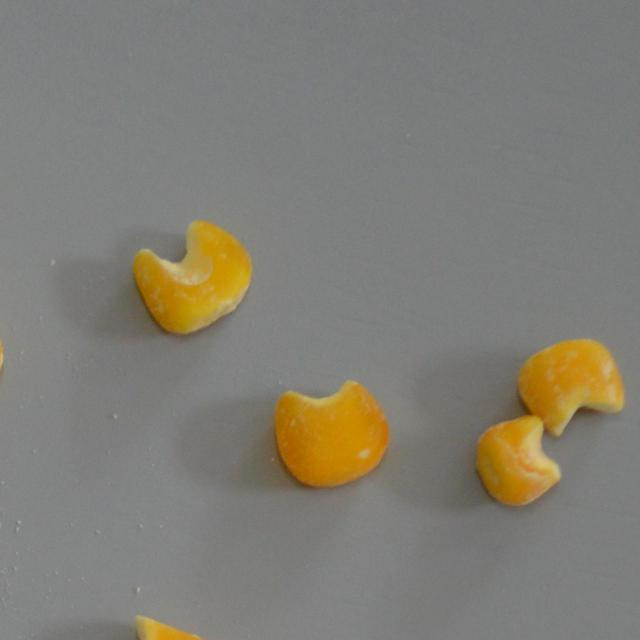no_canjicado: (272, 378, 390, 488), (112, 614, 246, 640)
pelicula: (132, 220, 252, 335), (516, 338, 625, 436), (474, 414, 561, 506)
